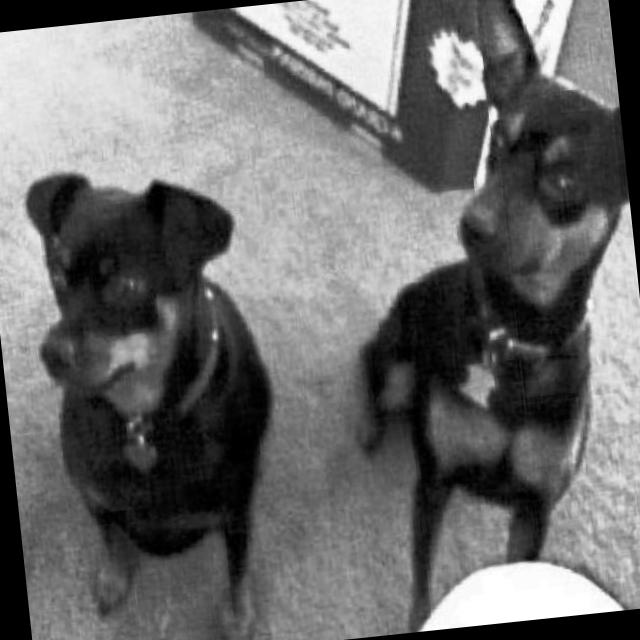Dog: (314, 0, 640, 635), (8, 129, 308, 640)
